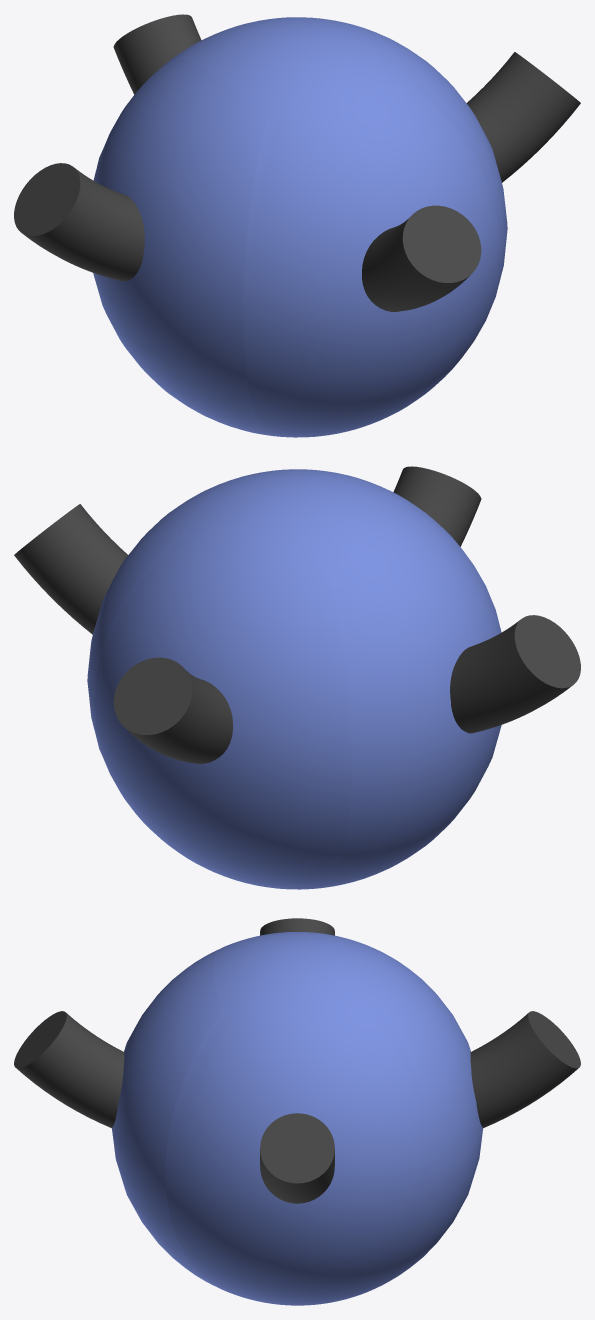
3 renders of one model, top to bottom at view 1: azimuth 30°, elevation 25°; view 2: azimuth 150°, elevation 25°; view 3: azimuth 270°, elevation 25°, orthographic. The views are drawn at different scales.
Visible parts, largest first — view 1: Body(Spherical)+Colour(6070287_6070287)+Pattern(Solid)+_e4c7, Arm002, Arm004, Arm001, Arm003; view 2: Body(Spherical)+Colour(6070287_6070287)+Pattern(Solid)+_e4c7, Arm002, Arm003, Arm001, Arm004; view 3: Body(Spherical)+Colour(6070287_6070287)+Pattern(Solid)+_e4c7, Arm003, Arm004, Arm001, Arm002.
Boxes of the visible parts, x1=… form: Body(Spherical)+Colour(6070287_6070287)+Pattern(Solid)+_e4c7: x1=93, y1=17, x2=507, y2=437; Arm002: x1=14, y1=163, x2=144, y2=281; Arm004: x1=362, y1=205, x2=481, y2=311; Arm001: x1=466, y1=52, x2=580, y2=182; Arm003: x1=113, y1=14, x2=201, y2=94; Body(Spherical)+Colour(6070287_6070287)+Pattern(Solid)+_e4c7: x1=87, y1=469, x2=501, y2=889; Arm002: x1=450, y1=615, x2=580, y2=733; Arm003: x1=113, y1=657, x2=232, y2=763; Arm001: x1=14, y1=504, x2=127, y2=634; Arm004: x1=393, y1=466, x2=481, y2=546; Body(Spherical)+Colour(6070287_6070287)+Pattern(Solid)+_e4c7: x1=112, y1=932, x2=482, y2=1305; Arm003: x1=470, y1=1011, x2=580, y2=1128; Arm004: x1=14, y1=1011, x2=124, y2=1128; Arm001: x1=260, y1=1113, x2=334, y2=1203; Arm002: x1=260, y1=918, x2=334, y2=935.
Size of the model in its own units: 1.54 by 1.02 by 1.54.
2 materials, 2 textured.
